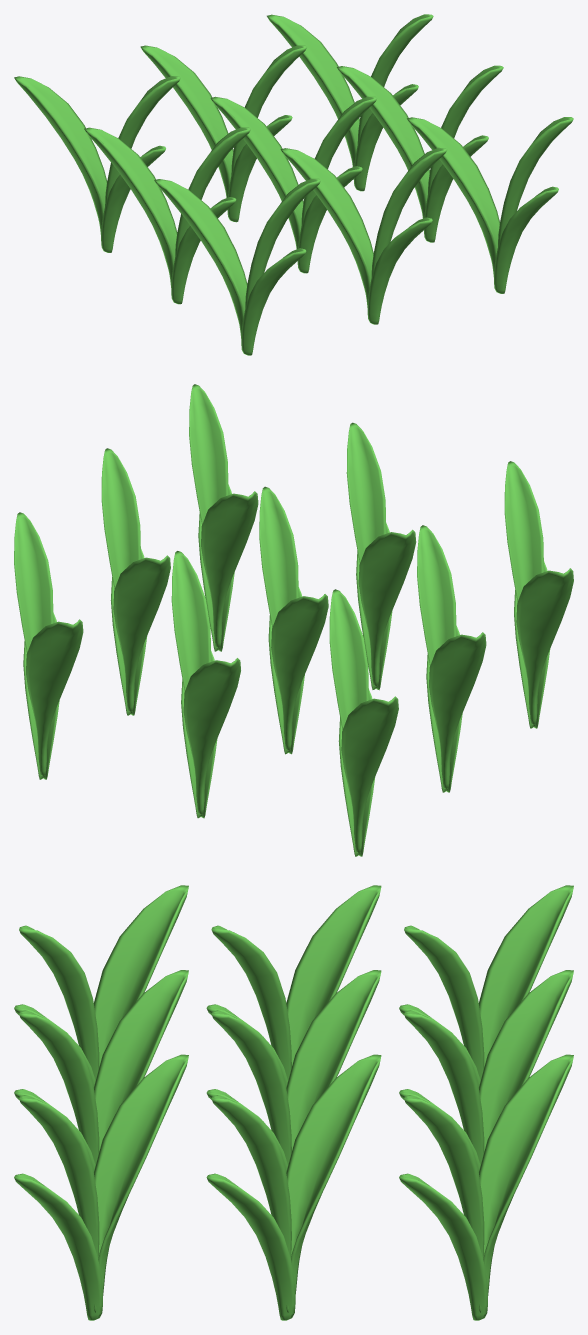
Rendered from CornSmall.fbx.
3 renders of one model, top to bottom at view 1: azimuth 30°, elevation 25°; view 2: azimuth 150°, elevation 25°; view 3: azimuth 270°, elevation 25°, orthographic. The views are drawn at different scales.
Visible parts, largest first — view 1: CornSmall; view 2: CornSmall; view 3: CornSmall.
Part boxes in pixels (<box>): CornSmall: <box>14,14,573,355</box>; CornSmall: <box>14,384,573,856</box>; CornSmall: <box>14,885,573,1320</box>.
Size of the model in its own units: 109 by 53.38 by 108.
